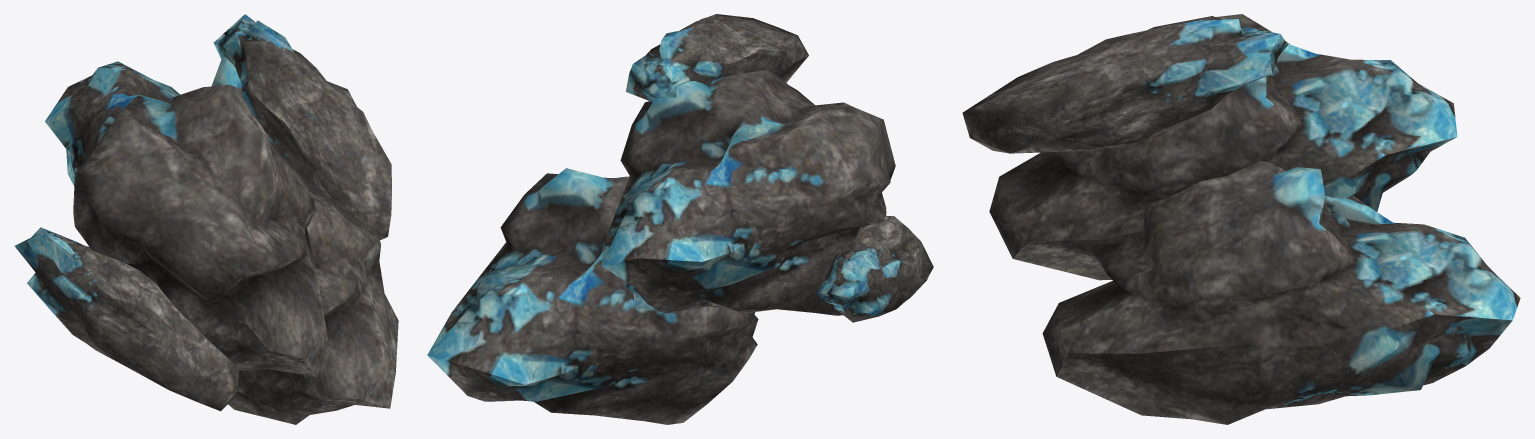
Rendered from shuijing.FBX.
3 views of the same model, side by side, from view 1: azimuth 30°, elevation 25°; view 2: azimuth 150°, elevation 25°; view 3: azimuth 270°, elevation 25° (orthographic). The views are drawn at different scales.
Visible parts, largest first — view 1: Stone_001_07_Opt; view 2: Stone_001_07_Opt; view 3: Stone_001_07_Opt.
Part boxes in pixels (left/top/right/bottom): Stone_001_07_Opt: left=14, top=14, right=398, bottom=424; Stone_001_07_Opt: left=427, top=14, right=933, bottom=424; Stone_001_07_Opt: left=962, top=14, right=1520, bottom=424.
Size of the model in its own units: 228 by 239 by 310.
Materials: 1 (1 with a texture image).
